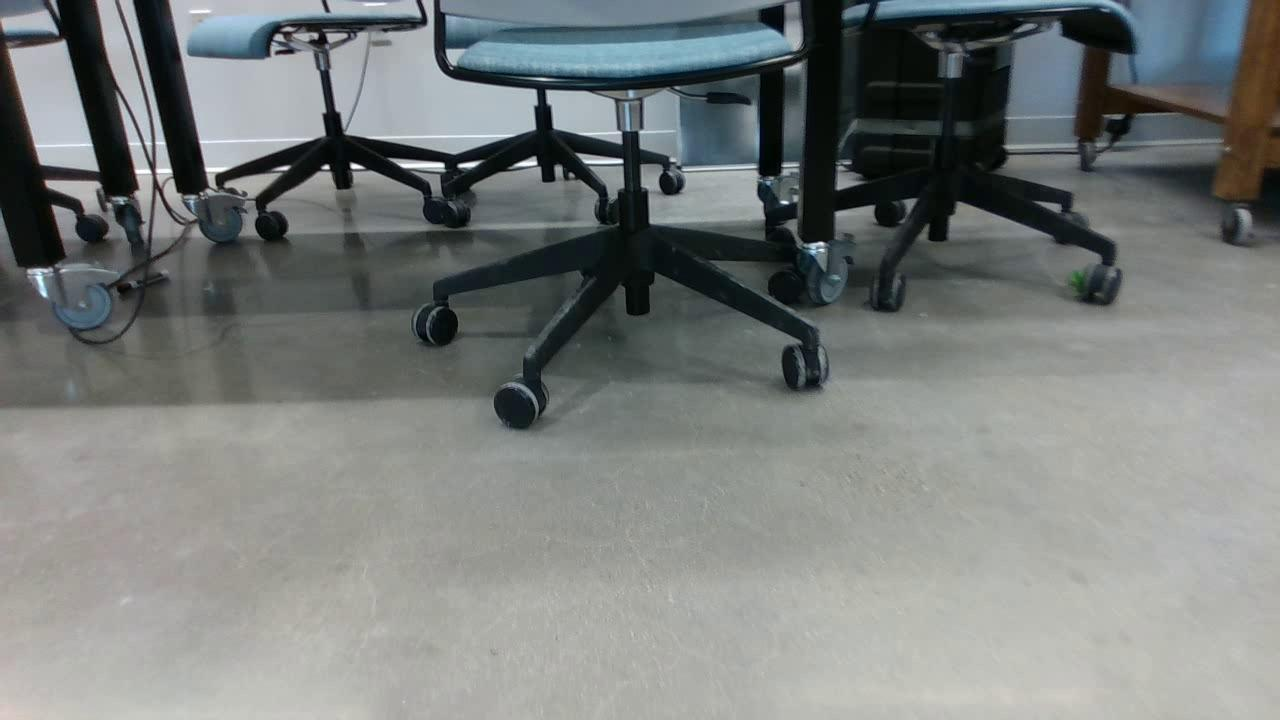grasshopper: (1067, 261, 1088, 309)
